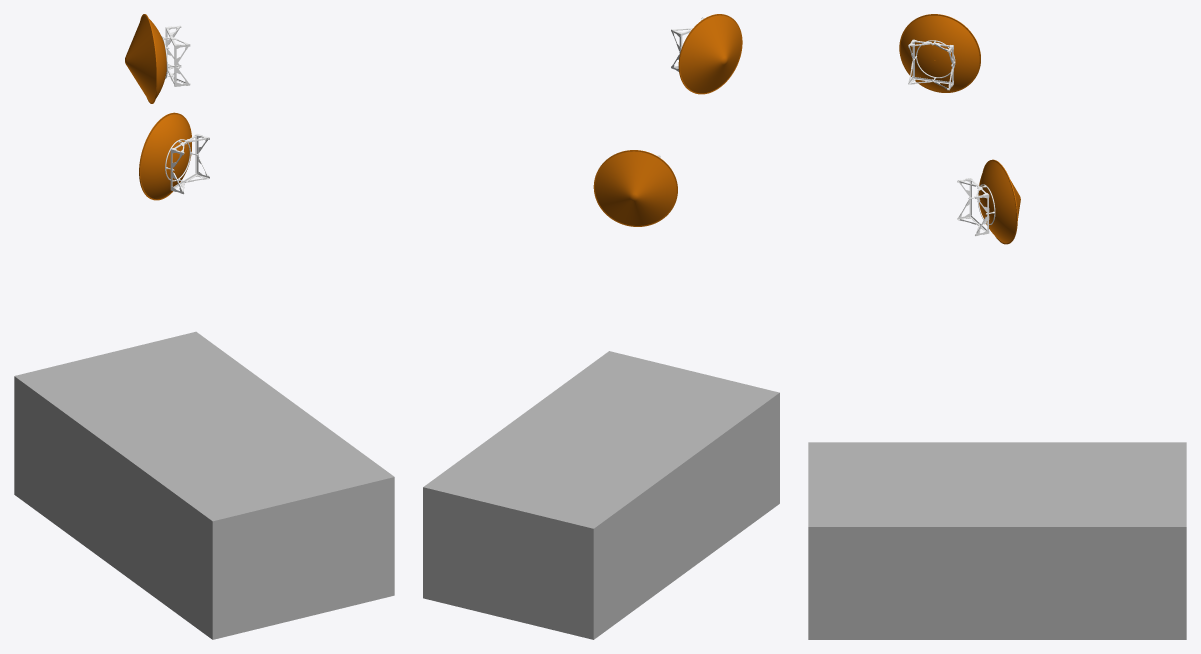
Rendered from 国頭局.glb.
The picture shows the model from 3 angles, left to right: view 1: azimuth 30°, elevation 25°; view 2: azimuth 150°, elevation 25°; view 3: azimuth 270°, elevation 25°; orthographic projection. The views are drawn at different scales.
Visible parts, largest first — view 1: group_2, group_18, group_17.005, group_18.003; view 2: group_2, group_17.002, group_17.005; view 3: group_2, group_18.003, group_18.
Boxes of the visible parts, <box> form: group_2: <box>14,331,394,639</box>; group_18: <box>140,114,191,199</box>; group_17.005: <box>125,15,156,102</box>; group_18.003: <box>149,19,166,98</box>; group_2: <box>423,351,779,639</box>; group_17.002: <box>595,151,676,225</box>; group_17.005: <box>680,15,741,93</box>; group_2: <box>808,442,1186,639</box>; group_18.003: <box>900,15,979,91</box>; group_18: <box>978,161,1016,243</box>.
Size of the model in its own units: 7.8 by 21.55 by 13.6.
